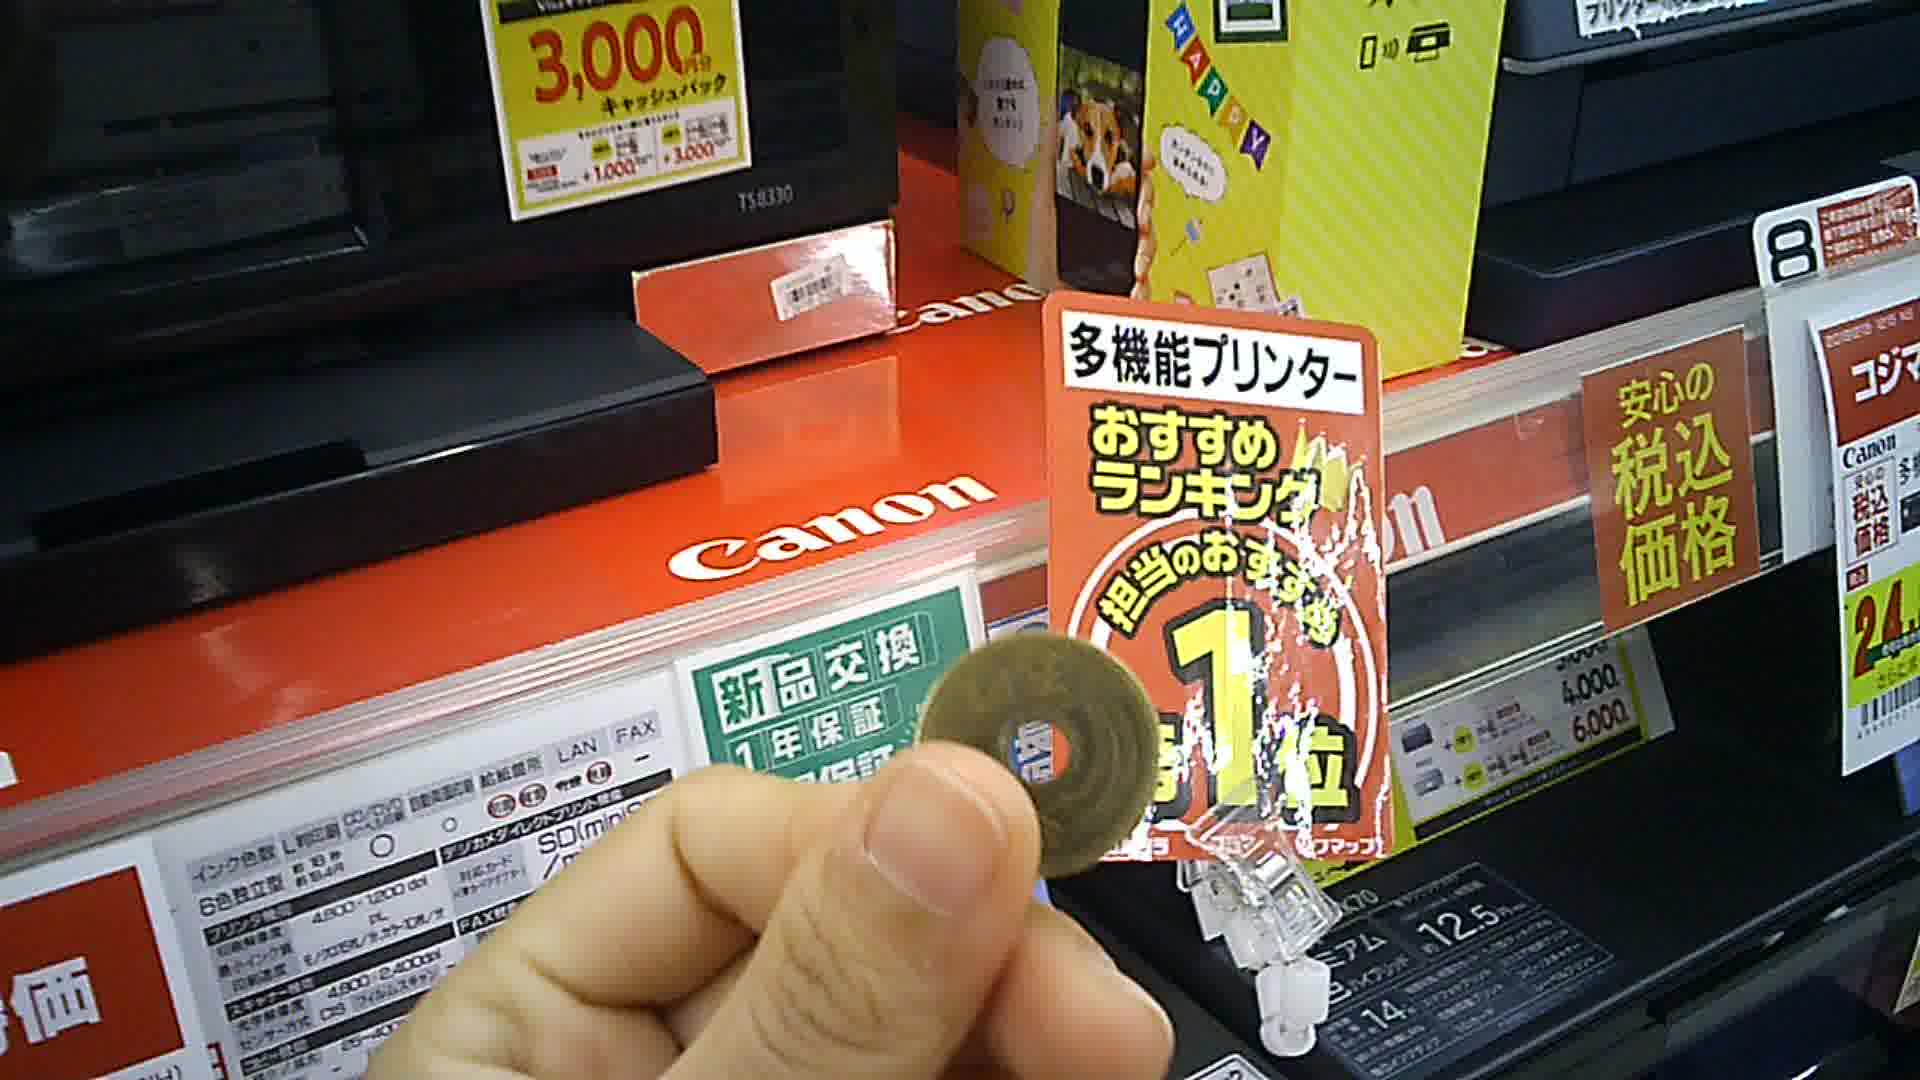5 Yen: (910, 615, 1170, 887)
